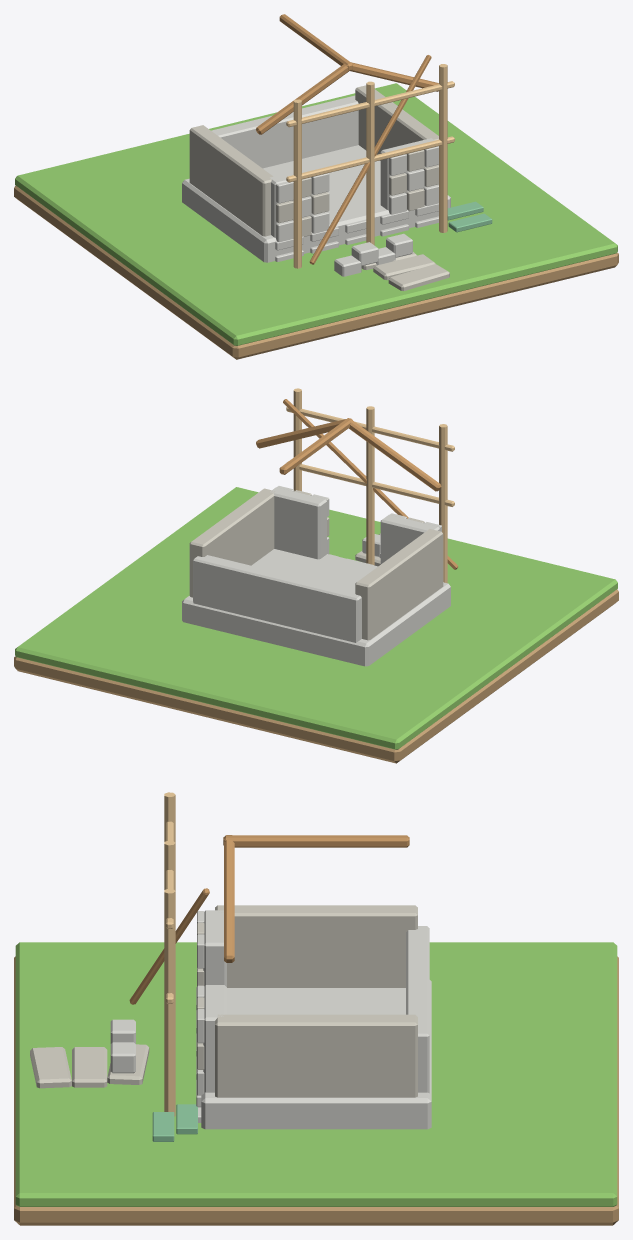
Rendered from stone_house_l01_construction.glb.
The picture shows the model from 3 angles, top to bottom: view 1: azimuth 30°, elevation 25°; view 2: azimuth 150°, elevation 25°; view 3: azimuth 270°, elevation 25°; orthographic projection. The views are drawn at different scales.
Parts seen in each view (by area): view 1: stone_house_component_pilot_grass_tile.001, stone_house_component_pilot_earth_tile.001, pilot_stone_house_l01_foundation_stone_block_medium_medium_f, pilot_stone_house_l01_side_wall_-1, pilot_stone_house_l01_rear_wall, pilot_stone_house_l01_side_wall_1, pilot_stone_house_l01_scaffold_scaffold_post_0.7, pilot_stone_house_l01_scaffold_scaffold_post_-0.7, pilot_stone_house_l01_scaffold_scaffold_post_0.0, pilot_stone_house_l01_scaffold_scaffold_brace, pilot_stone_house_l01_scaffold_scaffold_rail_0.9, pilot_stone_house_l01_scaffold_scaffold_rail_1.4 (+10 smaller); view 2: stone_house_component_pilot_grass_tile.001, pilot_stone_house_l01_foundation_stone_block_medium_medium_f, pilot_stone_house_l01_rear_wall, stone_house_component_pilot_earth_tile.001, pilot_stone_house_l01_side_wall_-1, pilot_stone_house_l01_side_wall_1, pilot_stone_house_l01_front_wall_1, pilot_stone_house_l01_front_wall_-1, pilot_stone_house_l01_scaffold_scaffold_post_0.0, pilot_stone_house_l01_scaffold_scaffold_post_-0.7, pilot_stone_house_l01_roof_rafter_-1, pilot_stone_house_l01_scaffold_scaffold_rail_0.9 (+5 smaller); view 3: stone_house_component_pilot_grass_tile.001, pilot_stone_house_l01_side_wall_1, pilot_stone_house_l01_side_wall_-1, pilot_stone_house_l01_foundation_stone_block_medium_medium_f, stone_house_component_pilot_earth_tile.001, pilot_stone_house_l01_rear_wall, pilot_stone_house_l01_scaffold_scaffold_post_0.7, pilot_stone_house_l01_ridge_beam, pilot_stone_house_l01_front_wall_-1, pilot_stone_house_l01_front_wall_1, stone_house_component_pilot_path_stone_03.001, stone_house_component_pilot_path_stone_02.001 (+7 smaller).
Part boxes in pixels (x1=…): stone_house_component_pilot_grass_tile.001: x1=15, y1=83, x2=617, y2=345; stone_house_component_pilot_earth_tile.001: x1=14, y1=185, x2=618, y2=359; pilot_stone_house_l01_foundation_stone_block_medium_medium_f: x1=182, y1=145, x2=450, y2=262; pilot_stone_house_l01_side_wall_-1: x1=189, y1=125, x2=273, y2=236; pilot_stone_house_l01_rear_wall: x1=211, y1=95, x2=358, y2=168; pilot_stone_house_l01_side_wall_1: x1=355, y1=85, x2=438, y2=160; pilot_stone_house_l01_scaffold_scaffold_post_0.7: x1=439, y1=64, x2=447, y2=232; pilot_stone_house_l01_scaffold_scaffold_post_-0.7: x1=293, y1=99, x2=301, y2=268; pilot_stone_house_l01_scaffold_scaffold_post_0.0: x1=366, y1=81, x2=374, y2=245; pilot_stone_house_l01_scaffold_scaffold_brace: x1=309, y1=55, x2=431, y2=264; pilot_stone_house_l01_scaffold_scaffold_rail_0.9: x1=286, y1=136, x2=454, y2=182; pilot_stone_house_l01_scaffold_scaffold_rail_1.4: x1=286, y1=81, x2=454, y2=127; stone_house_component_pilot_grass_tile.001: x1=15, y1=487, x2=617, y2=749; pilot_stone_house_l01_foundation_stone_block_medium_medium_f: x1=182, y1=549, x2=450, y2=666; pilot_stone_house_l01_rear_wall: x1=193, y1=555, x2=361, y2=642; stone_house_component_pilot_earth_tile.001: x1=14, y1=589, x2=618, y2=763; pilot_stone_house_l01_side_wall_-1: x1=355, y1=529, x2=443, y2=640; pilot_stone_house_l01_side_wall_1: x1=189, y1=488, x2=275, y2=597; pilot_stone_house_l01_front_wall_1: x1=270, y1=487, x2=326, y2=559; pilot_stone_house_l01_front_wall_-1: x1=380, y1=514, x2=439, y2=564; pilot_stone_house_l01_scaffold_scaffold_post_0.0: x1=366, y1=406, x2=374, y2=565; pilot_stone_house_l01_scaffold_scaffold_post_-0.7: x1=439, y1=424, x2=447, y2=583; pilot_stone_house_l01_roof_rafter_-1: x1=349, y1=420, x2=441, y2=491; pilot_stone_house_l01_scaffold_scaffold_rail_0.9: x1=287, y1=461, x2=454, y2=506; stone_house_component_pilot_grass_tile.001: x1=15, y1=942, x2=617, y2=1206; pilot_stone_house_l01_side_wall_1: x1=215, y1=1014, x2=417, y2=1097; pilot_stone_house_l01_side_wall_-1: x1=215, y1=905, x2=417, y2=987; pilot_stone_house_l01_foundation_stone_block_medium_medium_f: x1=201, y1=980, x2=431, y2=1129; stone_house_component_pilot_earth_tile.001: x1=14, y1=956, x2=618, y2=1225; pilot_stone_house_l01_rear_wall: x1=406, y1=926, x2=429, y2=1093; pilot_stone_house_l01_scaffold_scaffold_post_0.7: x1=164, y1=888, x2=175, y2=1116; pilot_stone_house_l01_ridge_beam: x1=223, y1=835, x2=409, y2=847; pilot_stone_house_l01_front_wall_-1: x1=203, y1=910, x2=226, y2=986; pilot_stone_house_l01_front_wall_1: x1=203, y1=985, x2=226, y2=1092; stone_house_component_pilot_path_stone_03.001: x1=30, y1=1047, x2=71, y2=1088; stone_house_component_pilot_path_stone_02.001: x1=72, y1=1047, x2=107, y2=1087.
Size of the model in its own units: 3.6 by 1.73 by 3.6.
